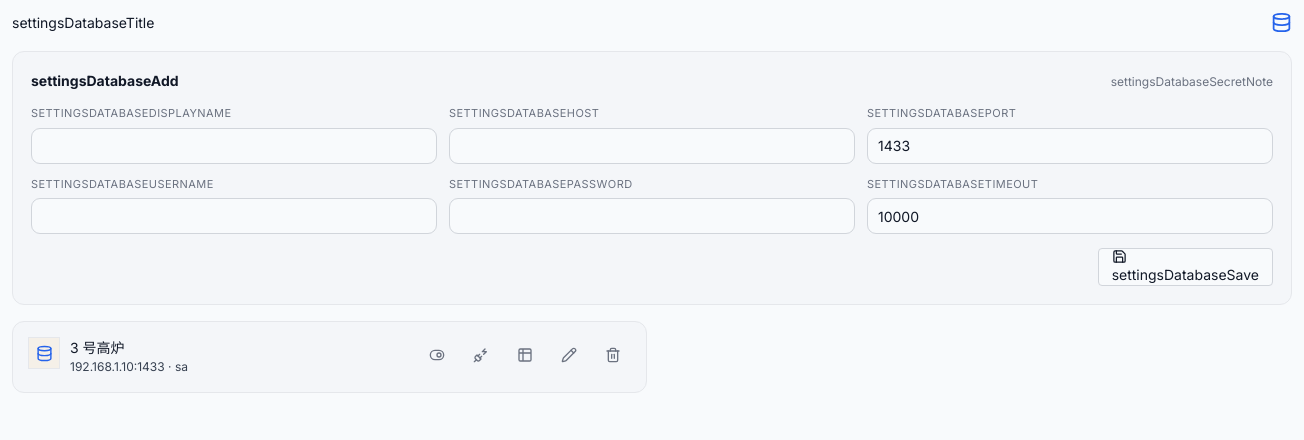
Test: DatabaseConnectionsPanel › shows the error when a test fails
Click the button named "settingsDatabaseTest" at (481, 355), box left=463, top=337, right=499, bottom=373
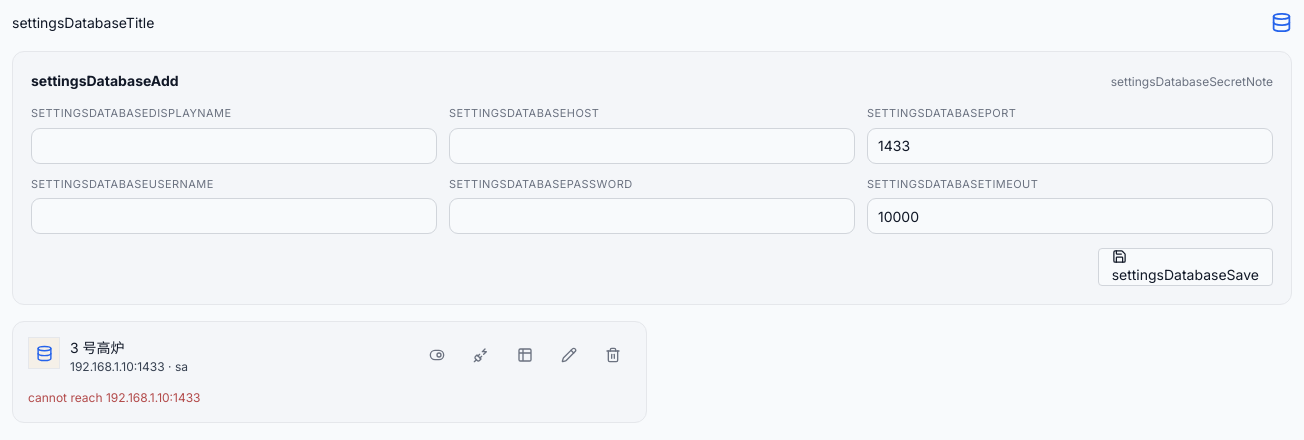
Now the text "cannot reach 192.168.1.10:1433" is shown, box left=28, top=389, right=200, bottom=407
